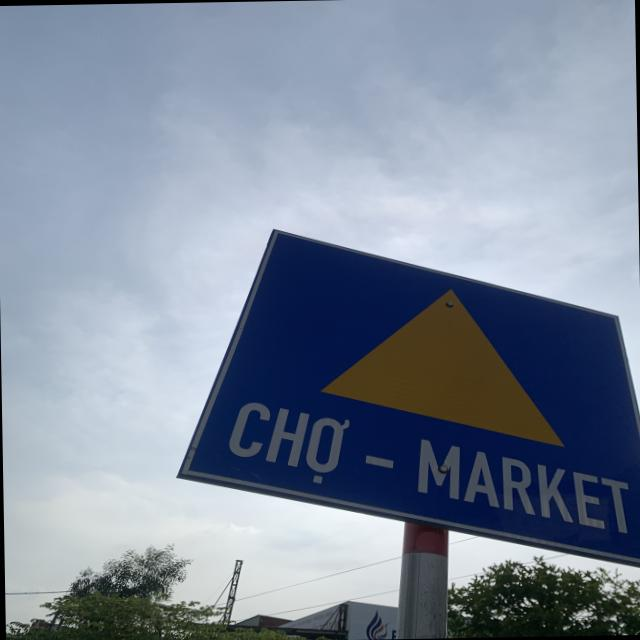Cho_Quay_Xe: (174, 219, 640, 572)
